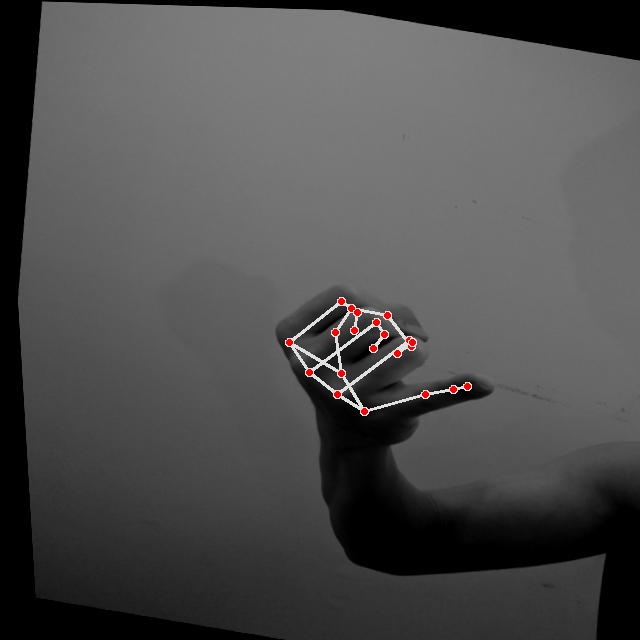J: (241, 260, 512, 470)
